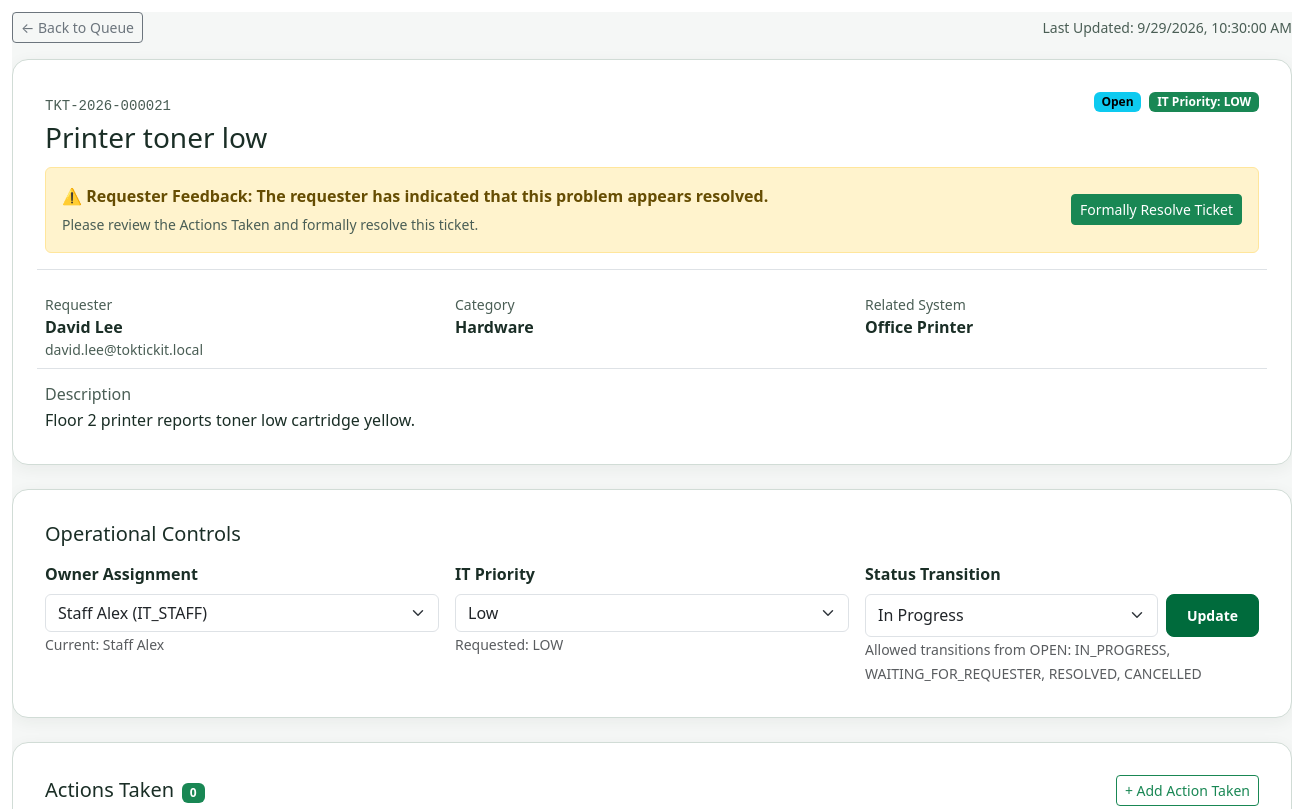
Work Item 6: Ticket Workflow & Resolution Component Tests (UI-03) › UI-03b: Renders advisory resolution banner when requesterIndicatedResolved is true and allows formal resolution
Expected: the message with test id "advisory-resolution-banner" is shown, x1=45 y1=167 x2=1259 y2=253
Expected: the text "Requester Feedback: The requester has indicated that this problem appears resolved" is shown, x1=62 y1=185 x2=768 y2=207
// Click Formally Resolve Ticket
Step 1. Click the button with test id "formally-resolve-btn" → (1156, 210), box x1=1071 y1=194 x2=1242 y2=225
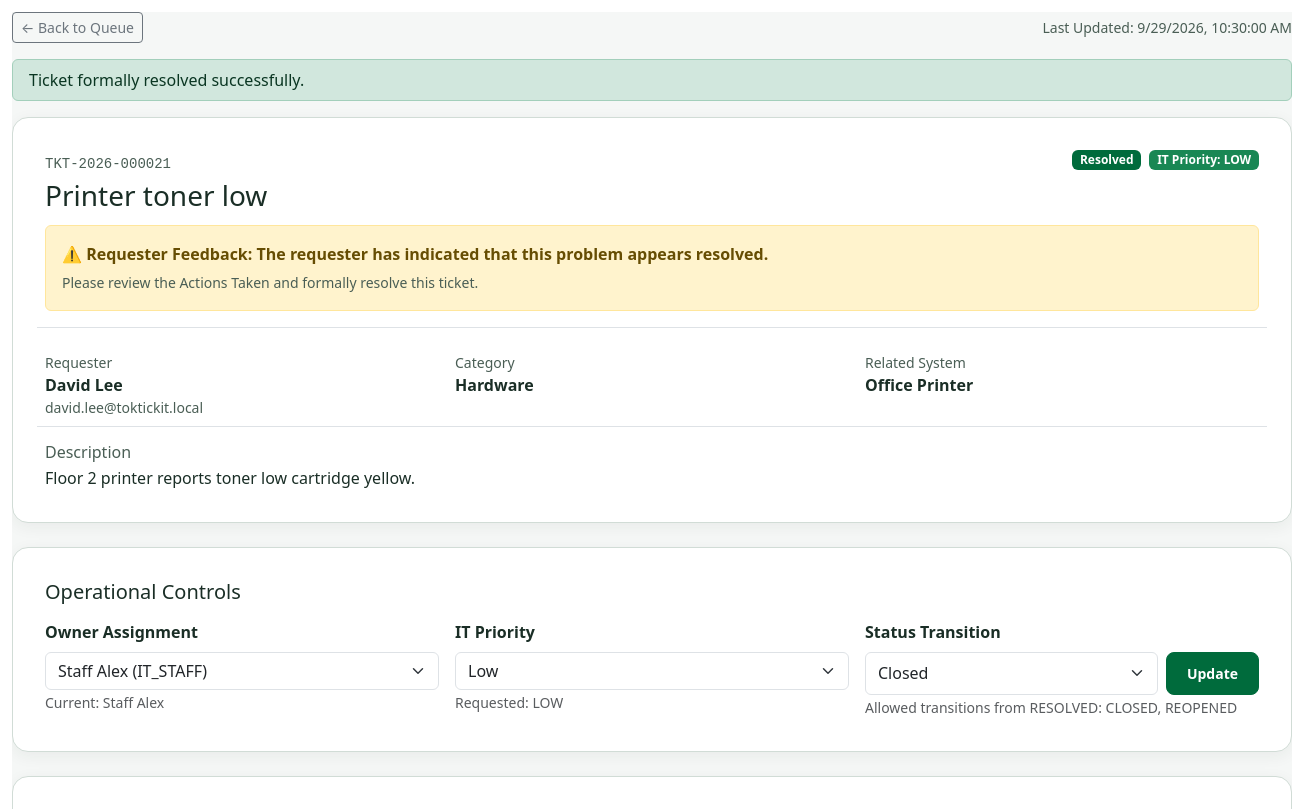
Now the text "Ticket formally resolved successfully." is shown, box x1=12 y1=59 x2=1292 y2=101
